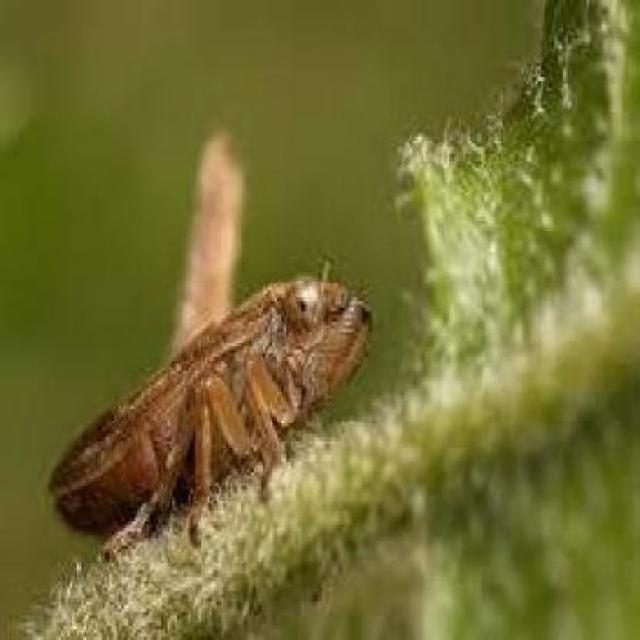brown-planthopper: (51, 280, 378, 549)
